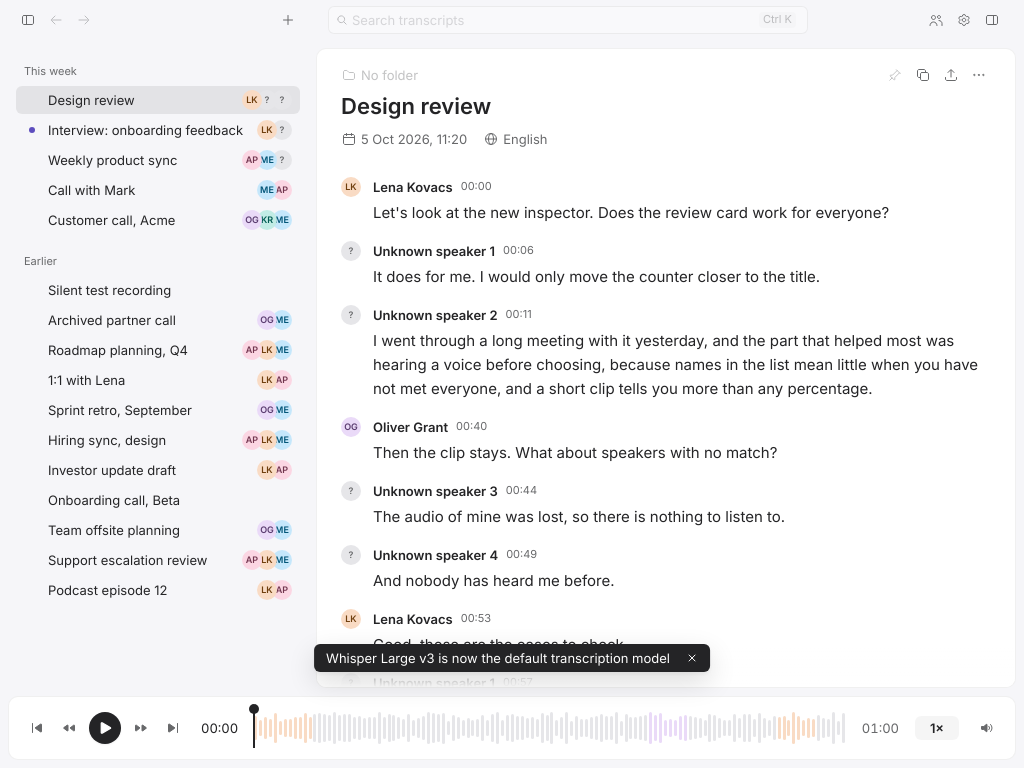
Test: opens from the titlebar on General, with the sections at the side and the version under them
The image size is (1024, 768).
What coordinates should you click on to do the following:
click the button named "Settings"
I would click on:
 (964, 20)
Its box is [952, 8, 976, 32].
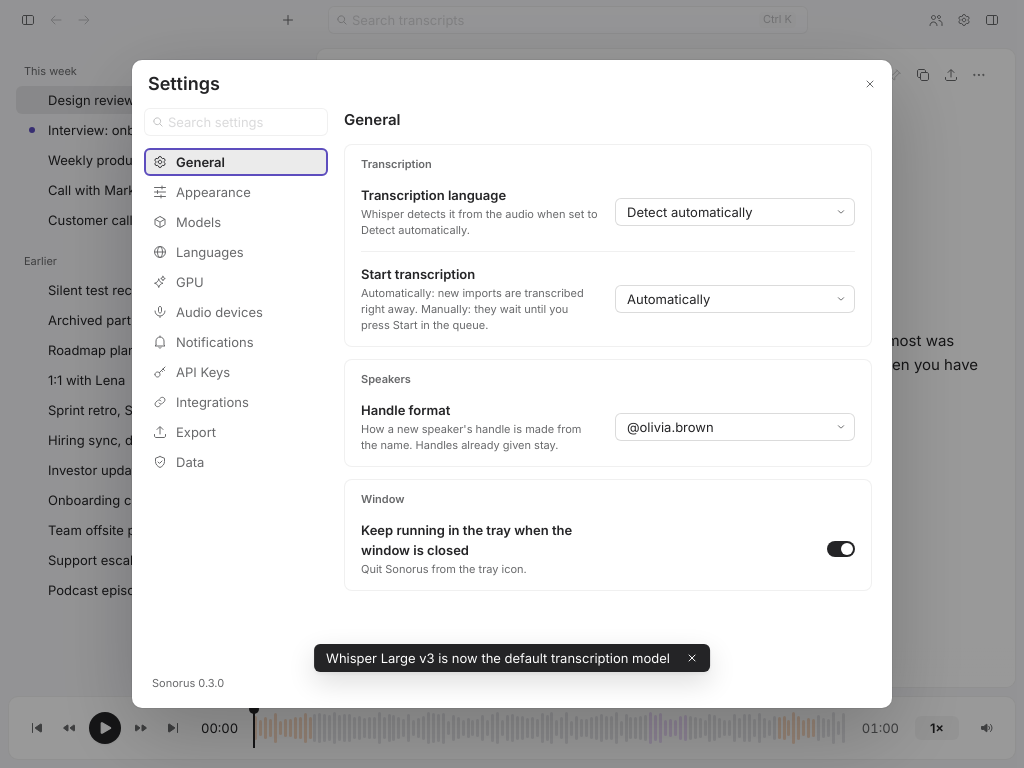
Expected: the element named "Settings sections" is shown, [144, 148, 328, 476]
Expected: the tab "General" is shown, [144, 148, 328, 176]
Expected: the heading "General" is shown, [344, 110, 400, 129]
